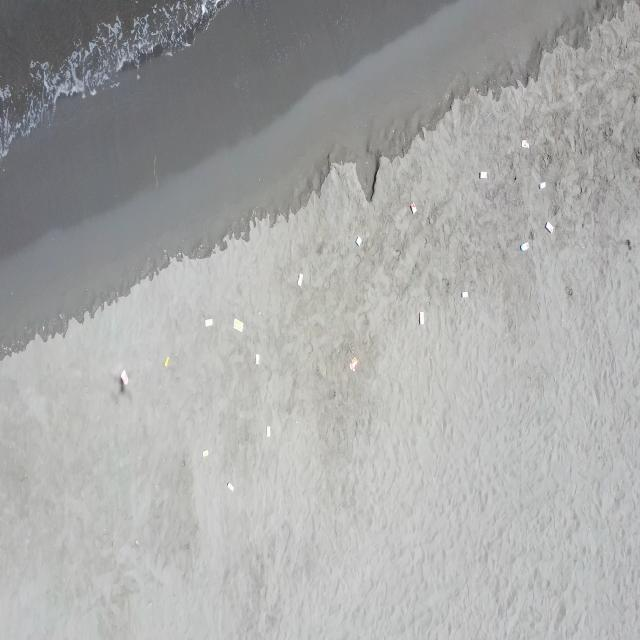Garbage: (232, 318, 243, 332), (348, 356, 357, 371), (120, 368, 128, 384), (296, 272, 303, 286), (544, 220, 552, 232), (408, 201, 415, 213), (204, 318, 212, 327), (520, 242, 528, 251), (355, 236, 362, 246), (419, 311, 424, 324), (479, 171, 487, 179), (520, 139, 527, 148), (539, 180, 546, 188), (163, 356, 168, 367), (460, 291, 467, 298), (266, 424, 270, 436), (201, 448, 207, 456), (227, 482, 232, 491), (255, 353, 259, 364)
